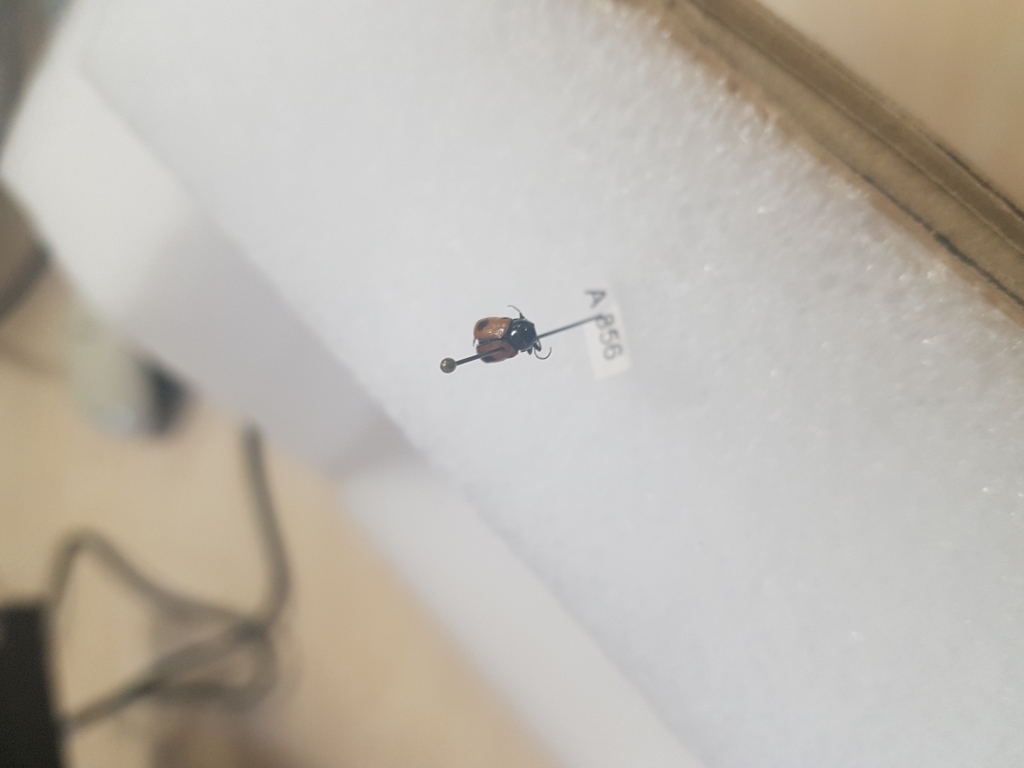Cryptocephalus_bipunctatus: (470, 313, 558, 363)
